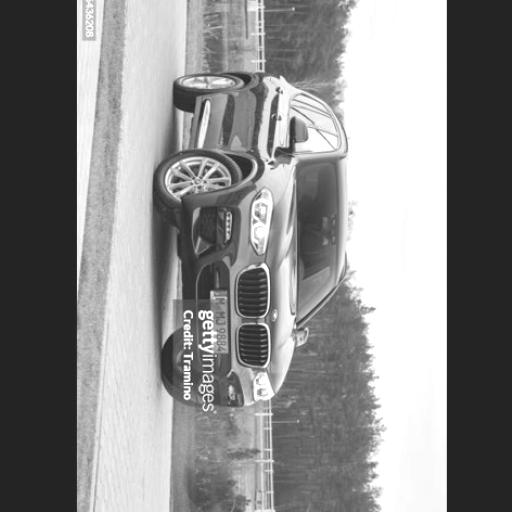suv: (154, 73, 345, 406)
